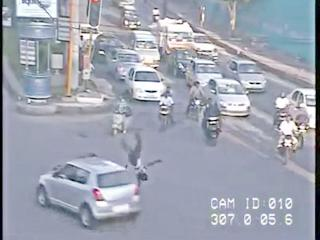Car: (34, 153, 140, 230), (202, 78, 250, 117), (124, 66, 166, 101), (226, 58, 267, 93), (125, 30, 160, 69), (153, 20, 191, 52), (287, 87, 315, 129), (184, 58, 221, 89), (108, 49, 142, 79), (93, 33, 126, 63), (168, 49, 196, 78), (189, 34, 217, 59), (121, 9, 141, 30)
Major Accident: (31, 137, 162, 231)
Motor: (115, 139, 158, 198), (274, 107, 309, 164), (198, 97, 232, 146), (185, 81, 206, 124), (112, 95, 134, 136), (157, 88, 176, 130), (270, 90, 290, 127), (152, 7, 160, 22)
